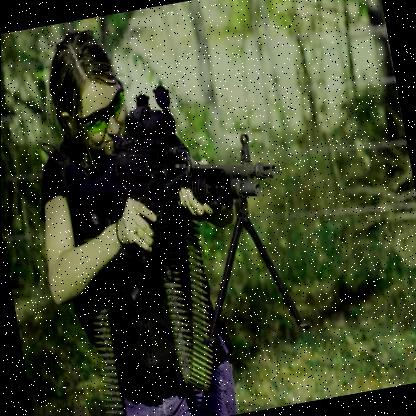rifle: (48, 72, 289, 281)
